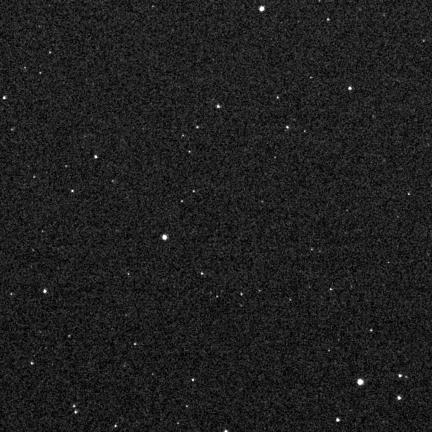blob: (357, 379, 364, 385), (162, 234, 168, 240), (260, 6, 265, 13), (286, 126, 290, 130), (216, 104, 220, 108), (3, 95, 7, 99), (71, 190, 75, 193), (349, 87, 352, 90), (95, 155, 97, 158)
